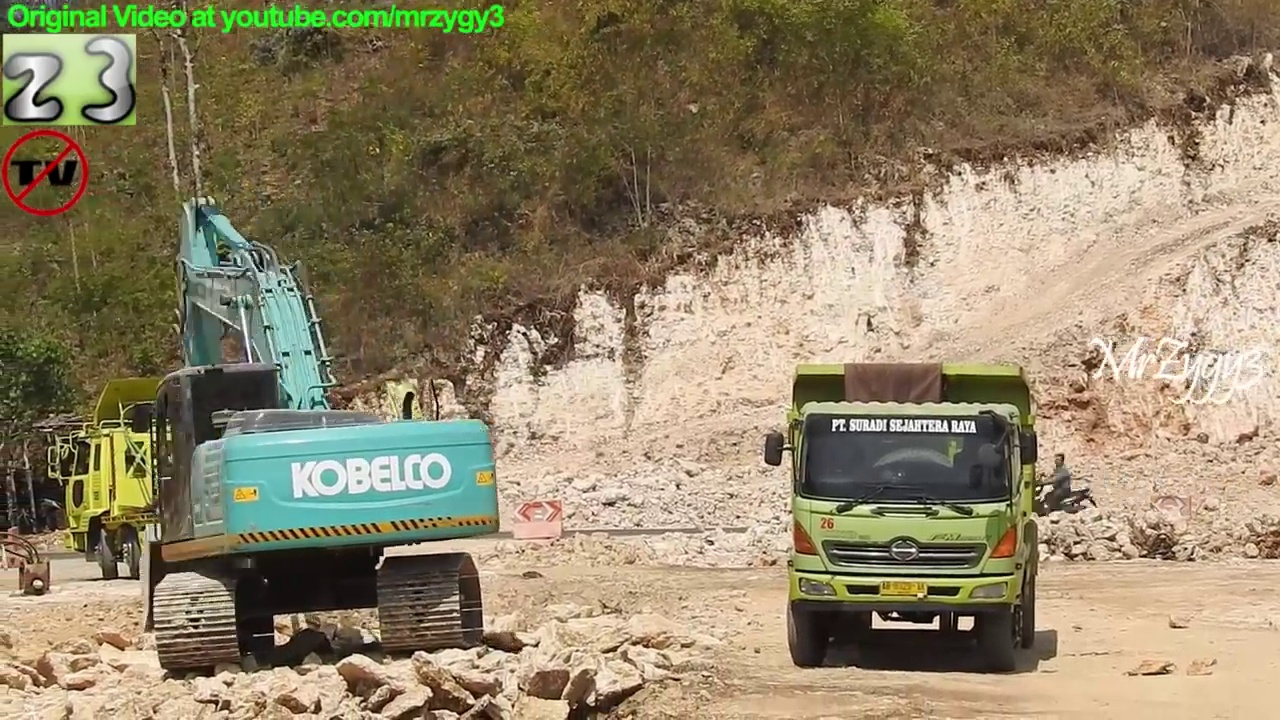excavator: (144, 188, 506, 676)
truck: (762, 355, 1041, 674), (40, 374, 460, 582)
